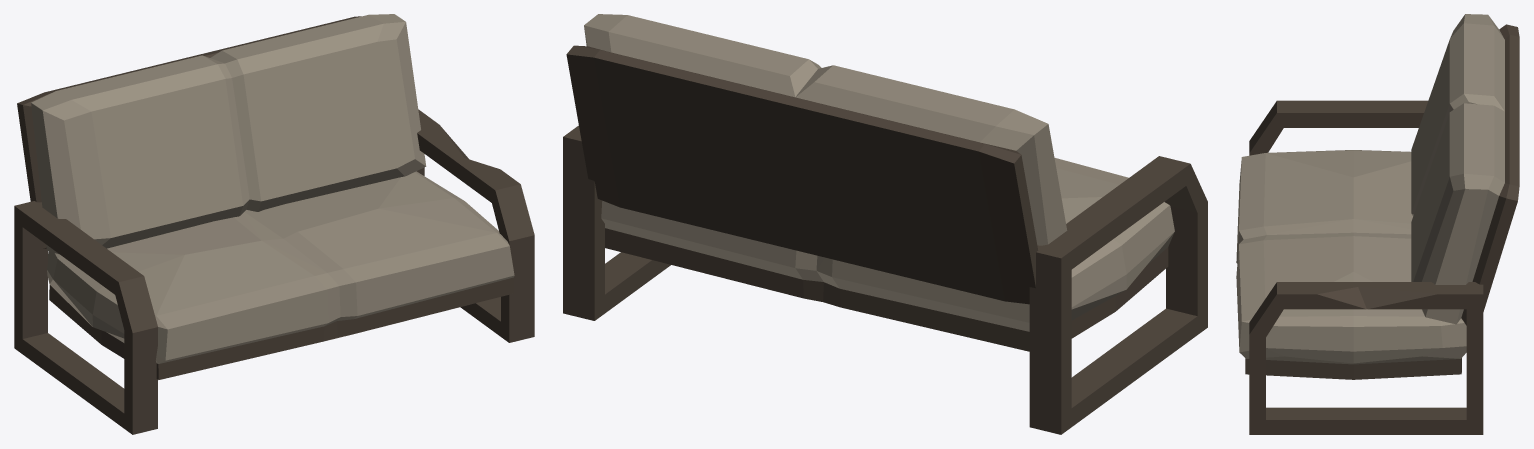
The model's file is SM_Prop_Couch_01.fbx.
The picture shows the model from 3 angles, left to right: view 1: azimuth 30°, elevation 25°; view 2: azimuth 150°, elevation 25°; view 3: azimuth 270°, elevation 25°; orthographic projection. The views are drawn at different scales.
Visible parts, largest first — view 1: SM_Prop_Couch_01; view 2: SM_Prop_Couch_01; view 3: SM_Prop_Couch_01.
Boxes of the visible parts, box(x1,y1,x2,y2) form: SM_Prop_Couch_01: box(14, 14, 534, 434); SM_Prop_Couch_01: box(563, 14, 1207, 434); SM_Prop_Couch_01: box(1236, 14, 1519, 434).
Size of the model in its own units: 183 by 106 by 113.
